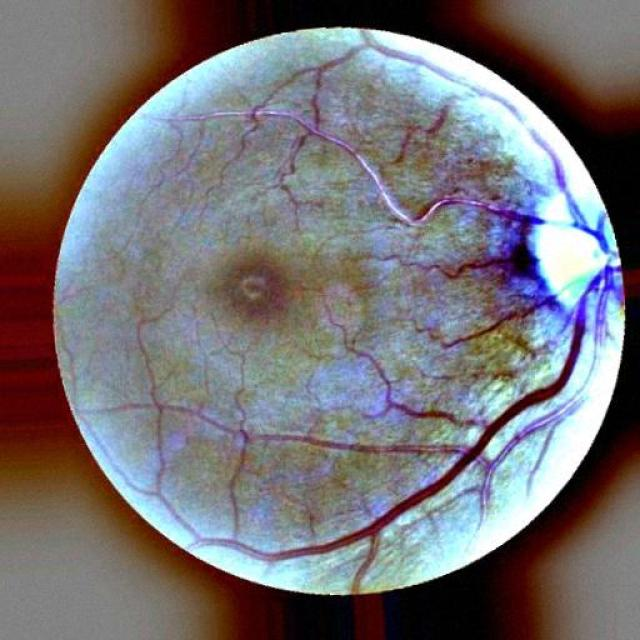Macula: (226, 265, 281, 311)
Nerves: (264, 344, 586, 580), (267, 105, 511, 233), (376, 45, 569, 187)
Optic Disk: (515, 176, 616, 342)
